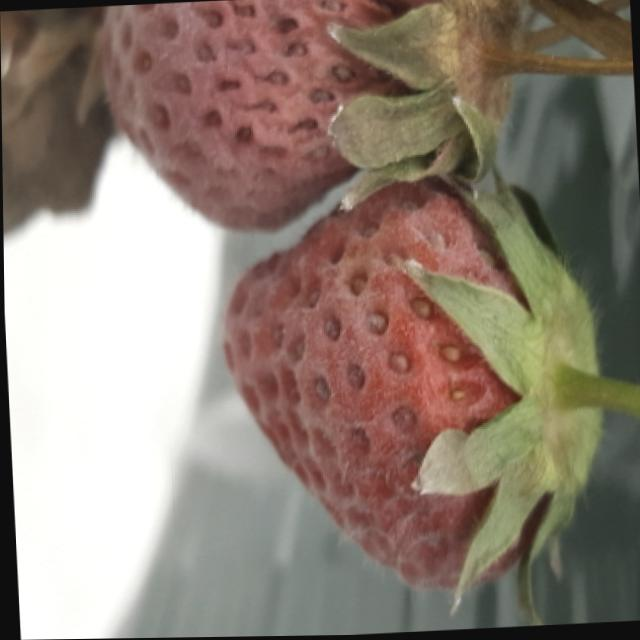Powdery Mildew Fruit: (220, 174, 576, 592), (99, 0, 479, 235)
